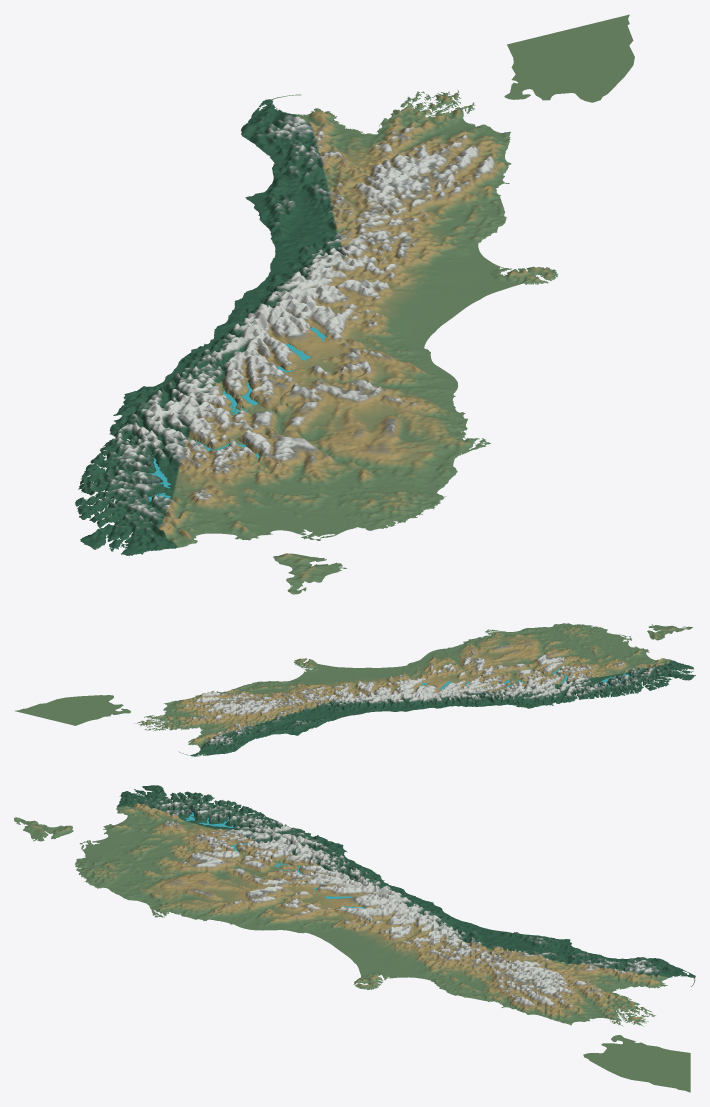
Rendered from terrain_south_island.glb.
3 renders of one model, top to bottom at view 1: azimuth 30°, elevation 25°; view 2: azimuth 150°, elevation 25°; view 3: azimuth 270°, elevation 25°, orthographic. The views are drawn at different scales.
Parts seen in each view (by area): view 1: Terrain, NorthIslandHint, StewartIsland; view 2: Terrain, NorthIslandHint, StewartIsland; view 3: Terrain, NorthIslandHint, StewartIsland.
Part boxes in pixels (x1,y1,x2,y2): Terrain: (75, 90, 557, 555); NorthIslandHint: (504, 14, 634, 102); StewartIsland: (273, 553, 347, 594); Terrain: (134, 623, 695, 756); NorthIslandHint: (15, 695, 130, 725); StewartIsland: (647, 624, 692, 640); Terrain: (75, 785, 695, 1026); NorthIslandHint: (583, 1035, 690, 1092); StewartIsland: (14, 817, 73, 841).
Bounding box in the file's own units: 80.59 × 1.45 × 75.47.
